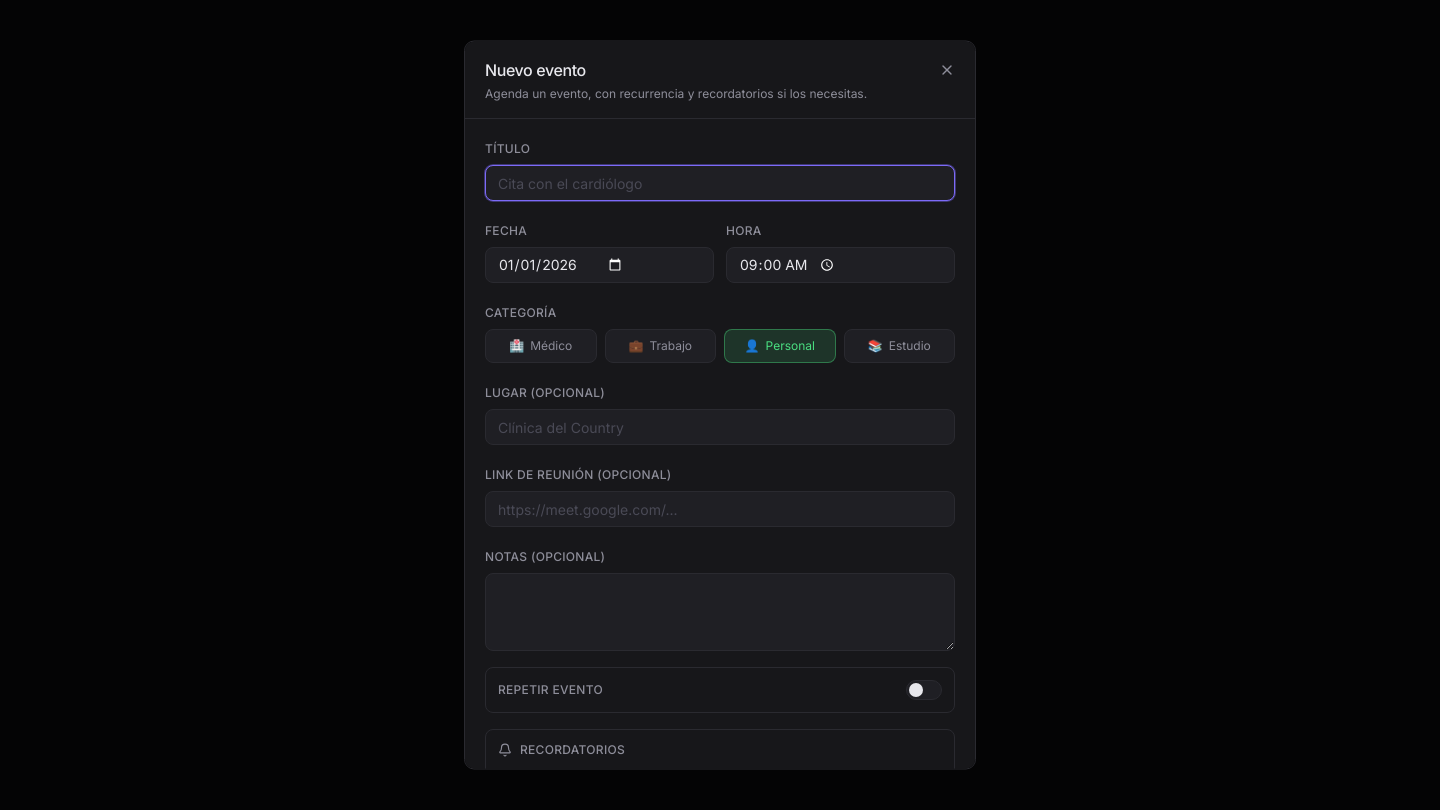
Test case: EventFormDialog › rechaza un link de reunión que no es una URL válida y no envía el formulario
Type "Reunión de equipo" into the field labelled "Título" at {"x": 720, "y": 182}, box [485,164,955,200]
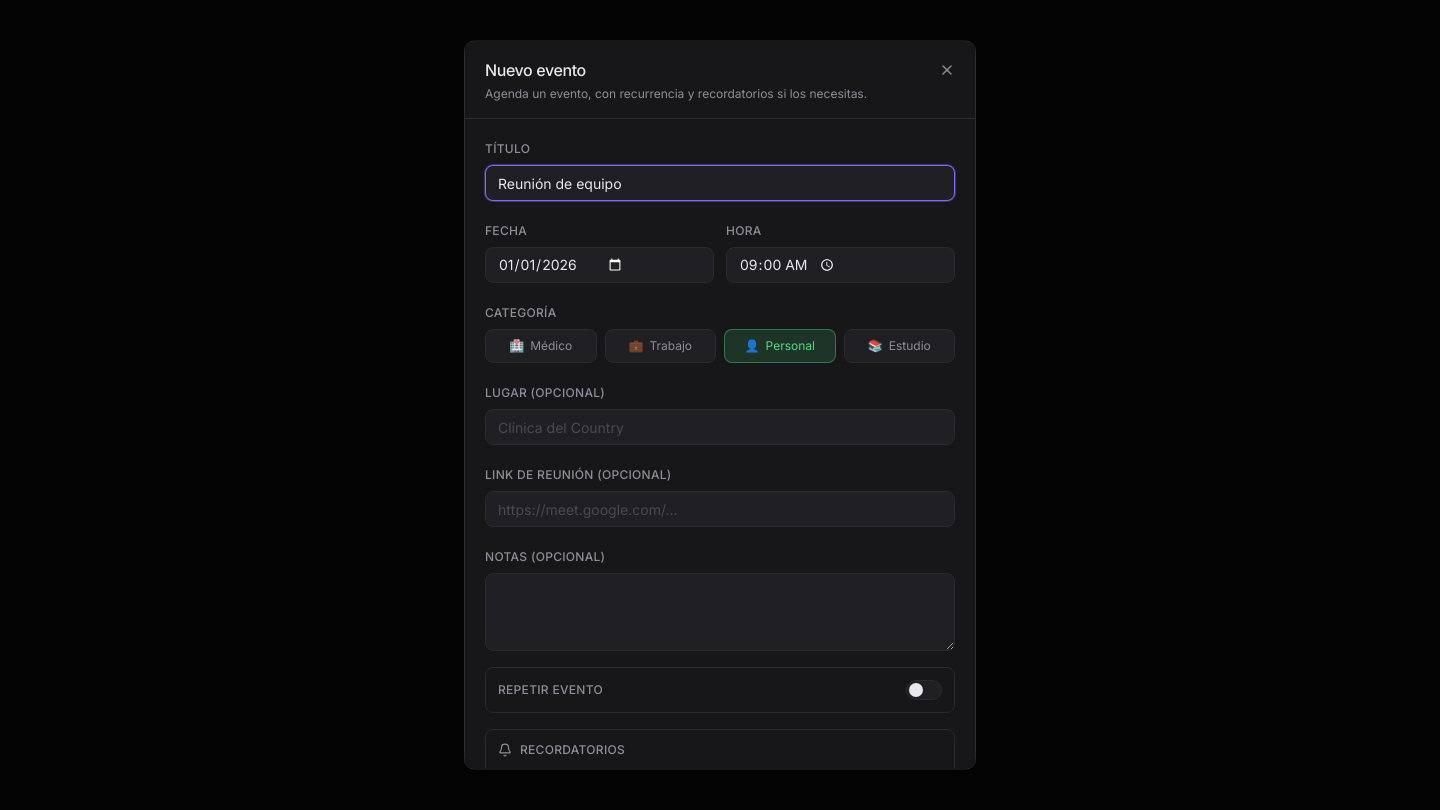
Type "no-es-una-url" into the field labelled "Link de reunión (opcional)" at {"x": 720, "y": 508}, box [485,490,955,526]
(page scrolled)
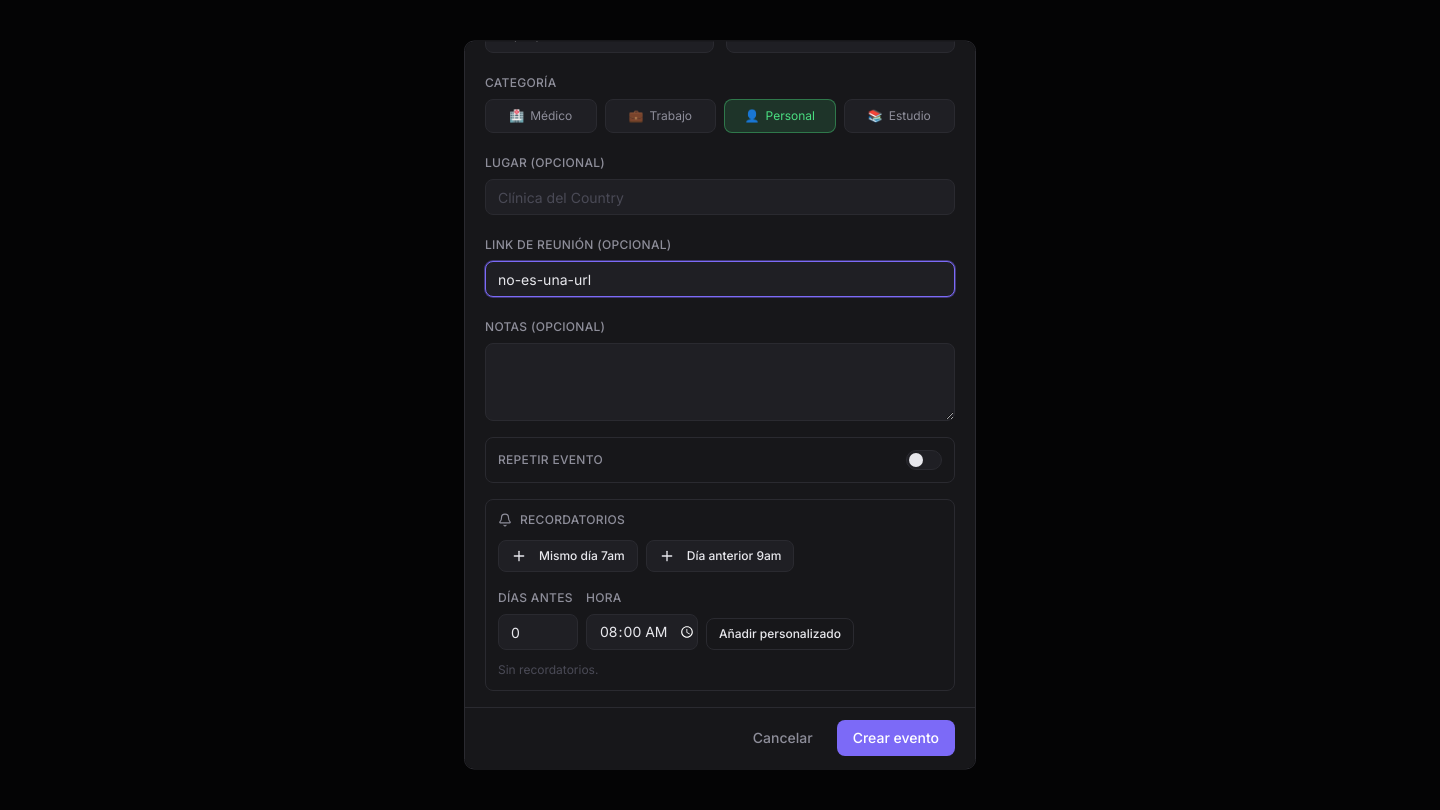
Click the button "Crear evento" at {"x": 896, "y": 738}, box [837,720,955,756]
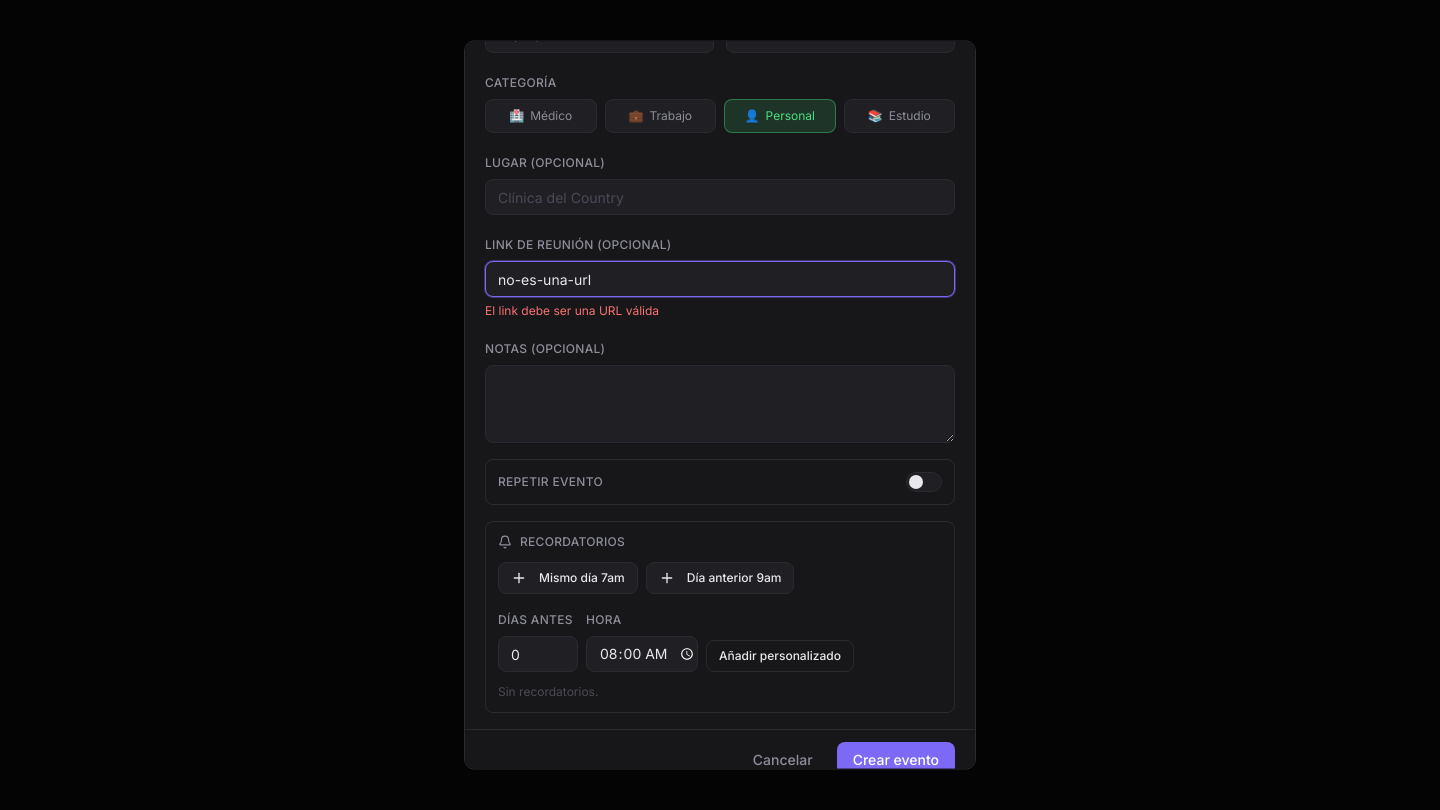
Now the text "El link debe ser una URL válida" is shown, box [485,304,659,318]
